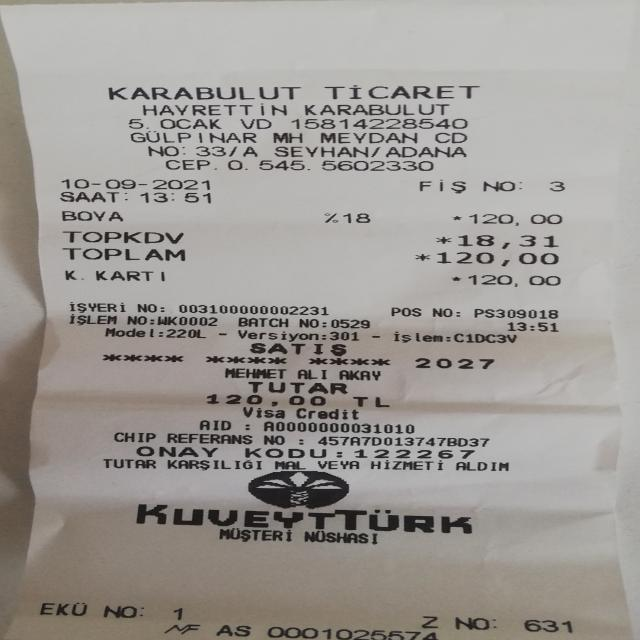text: (137, 500, 470, 534), (107, 85, 300, 102), (318, 433, 488, 449), (324, 84, 479, 100), (290, 117, 466, 130), (263, 420, 412, 435), (267, 626, 437, 639), (180, 302, 328, 316), (438, 251, 558, 268), (61, 177, 209, 190), (142, 102, 286, 115), (304, 102, 448, 115), (62, 230, 182, 244), (206, 393, 324, 407), (354, 446, 472, 460), (130, 131, 254, 144), (62, 247, 184, 260), (321, 159, 432, 172), (458, 234, 557, 248), (319, 130, 417, 144), (248, 380, 346, 394), (249, 342, 346, 356), (166, 431, 251, 446), (415, 355, 493, 371), (473, 212, 561, 226), (467, 274, 561, 287), (238, 327, 316, 342), (474, 306, 556, 320), (135, 444, 217, 458), (167, 458, 261, 470), (140, 190, 210, 206), (244, 445, 324, 459), (274, 145, 364, 157), (221, 528, 294, 542), (371, 458, 442, 472), (307, 530, 377, 544), (386, 145, 464, 157), (95, 269, 164, 282), (59, 190, 120, 204), (455, 331, 515, 345), (36, 601, 88, 617), (524, 616, 570, 634), (296, 406, 358, 419), (160, 117, 221, 130), (61, 209, 122, 222), (160, 314, 216, 328), (69, 300, 124, 314), (106, 325, 156, 340), (419, 178, 465, 194), (224, 368, 285, 380), (103, 457, 155, 470), (507, 320, 558, 333), (456, 459, 507, 472), (258, 159, 308, 171), (238, 316, 288, 328), (392, 330, 442, 342), (70, 313, 116, 326), (312, 458, 358, 471), (164, 158, 209, 171), (114, 430, 155, 444), (454, 614, 486, 631), (100, 604, 136, 618), (242, 406, 283, 418), (338, 369, 378, 381), (482, 178, 511, 194), (162, 624, 200, 636), (334, 317, 369, 330), (353, 395, 387, 408), (217, 624, 247, 638), (146, 144, 178, 157), (240, 117, 271, 130), (434, 132, 466, 144), (391, 305, 420, 318), (275, 458, 304, 471), (199, 419, 230, 431), (196, 144, 224, 157), (274, 131, 301, 144), (297, 368, 325, 380), (330, 331, 360, 341), (341, 212, 370, 222), (128, 117, 148, 130), (414, 250, 428, 268), (299, 316, 318, 329), (264, 433, 283, 446), (227, 158, 247, 170), (64, 268, 82, 281), (432, 306, 451, 318), (550, 178, 564, 194), (136, 302, 154, 314), (423, 613, 436, 629), (436, 234, 450, 248), (128, 314, 144, 326), (242, 144, 256, 156), (174, 606, 184, 622), (324, 212, 336, 222), (159, 326, 167, 340), (452, 212, 459, 226), (182, 144, 190, 156), (447, 331, 454, 344), (374, 145, 381, 157), (219, 327, 225, 341), (489, 615, 494, 631), (323, 329, 329, 342), (372, 330, 378, 343), (449, 276, 462, 282), (121, 190, 126, 205), (229, 144, 235, 156), (245, 419, 250, 432), (158, 302, 163, 314), (454, 306, 459, 318), (322, 317, 327, 329), (336, 449, 342, 459), (152, 314, 156, 326), (299, 433, 302, 446), (213, 158, 216, 170)
